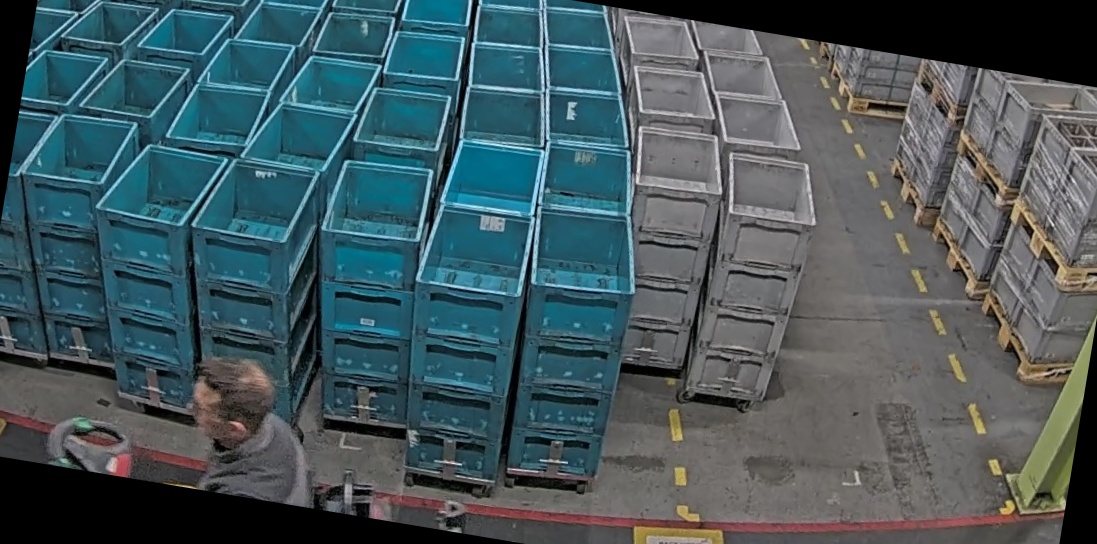4G: (685, 148, 827, 407), (598, 122, 733, 372)
B4: (160, 149, 344, 429), (65, 136, 242, 413), (492, 199, 650, 485), (289, 153, 449, 428), (384, 197, 538, 482), (0, 103, 155, 366)
